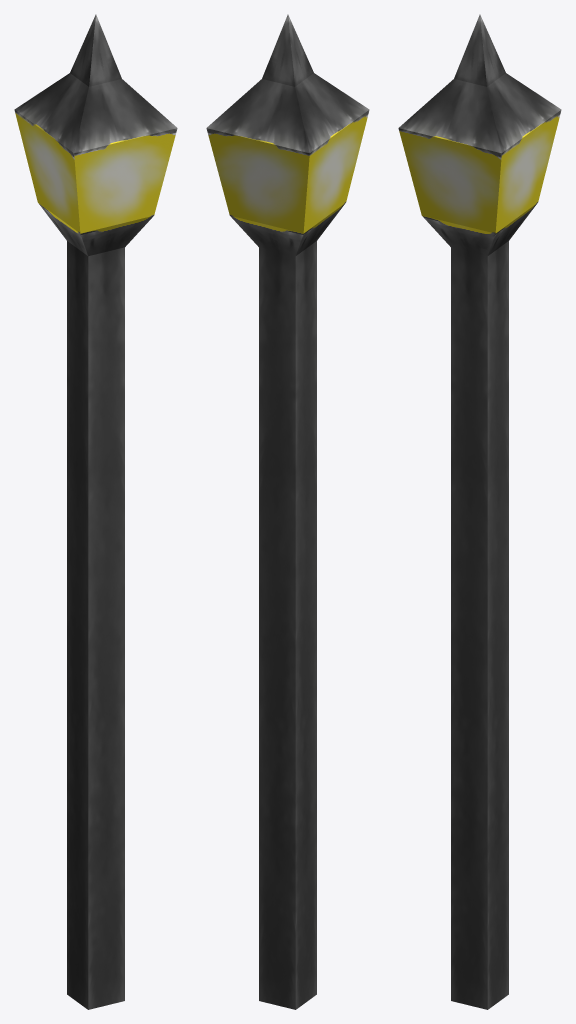
File: street_lamp.obj
The picture shows the model from 3 angles, left to right: view 1: azimuth 30°, elevation 25°; view 2: azimuth 150°, elevation 25°; view 3: azimuth 330°, elevation 25°; orthographic projection.
Visible parts, largest first — view 1: Cube_Cube.005; view 2: Cube_Cube.005; view 3: Cube_Cube.005.
Boxes of the visible parts, left/top/right/bottom form: Cube_Cube.005: left=14, top=14, right=177, bottom=1009; Cube_Cube.005: left=206, top=14, right=369, bottom=1009; Cube_Cube.005: left=398, top=14, right=561, bottom=1009.
Bounding box in the file's own units: 0.2624 × 2.38 × 0.2624.
